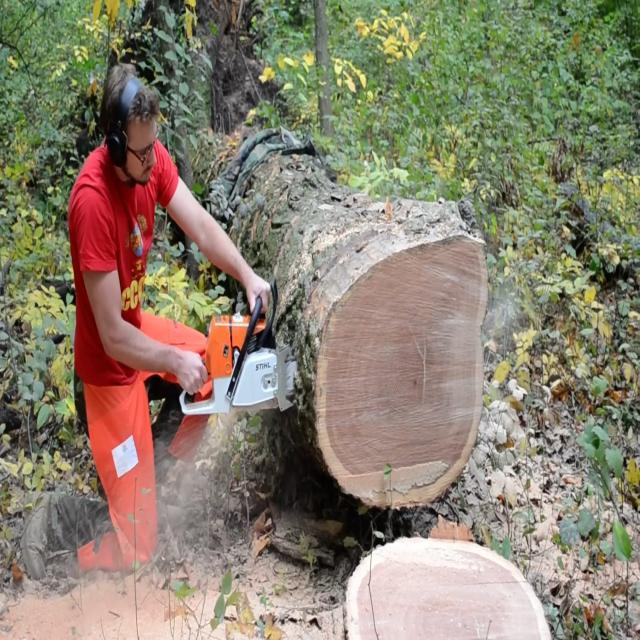Chainsaw: (172, 300, 314, 448)
